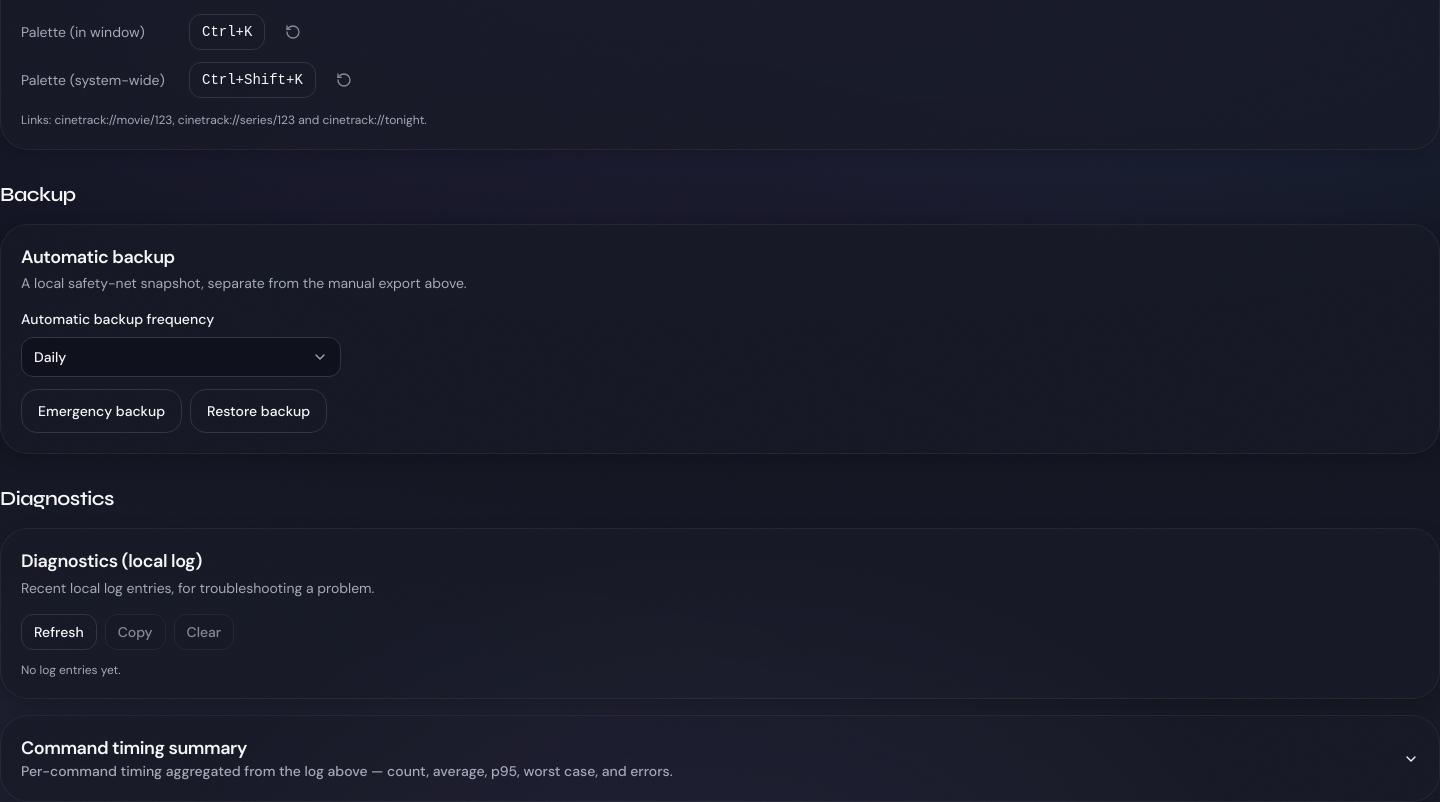
DesktopSettings › restore flow › confirmRestore failure: resets state, logs, shows an error toast, closes the dialog, and never reloads
This screenshot has width=1440, height=802.
(page scrolled)
Click the button "Restore backup" at (259, 411), box [190,389,327,433]
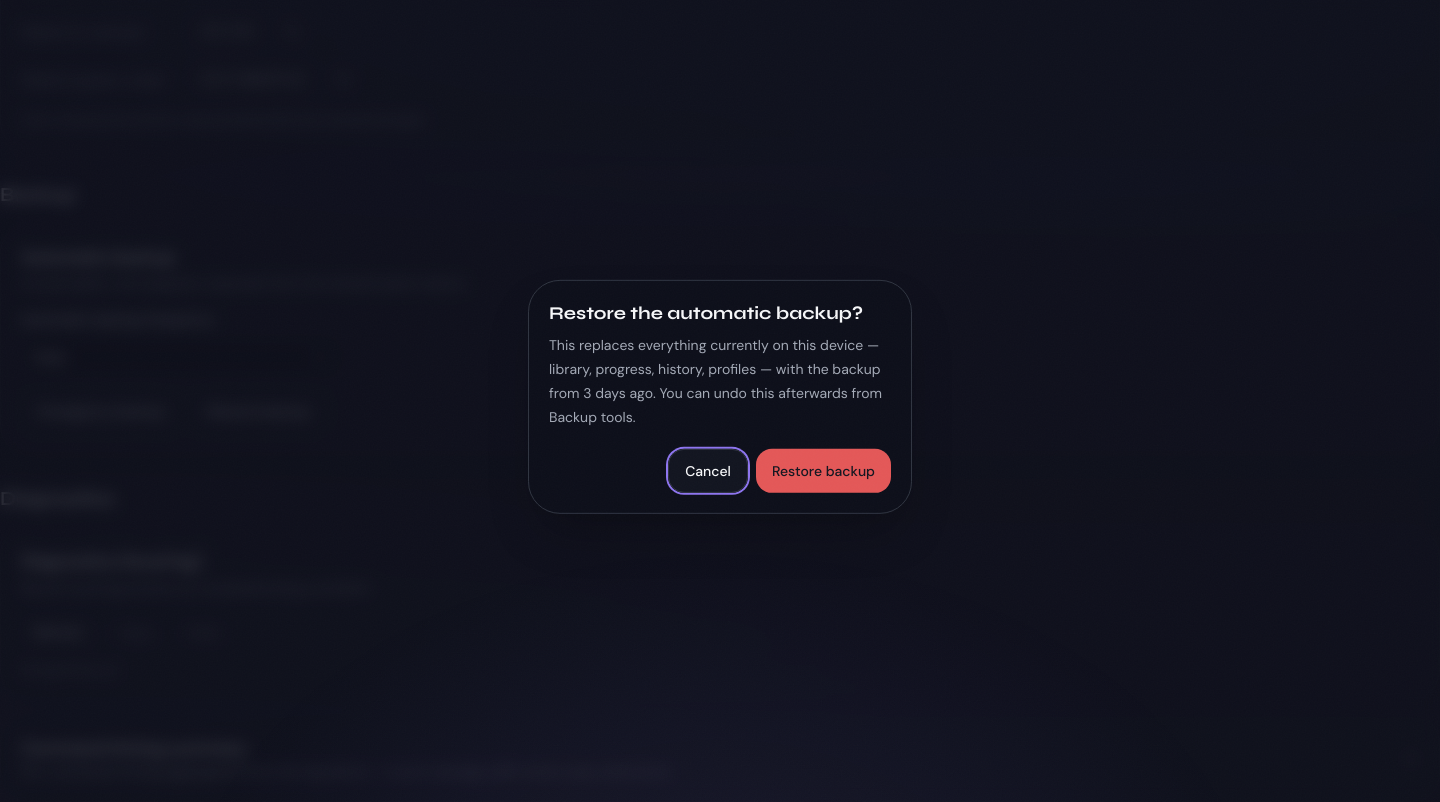
Check: the heading "Restore the automatic backup?" is shown, box [549,301,891,325]
Click the button "Restore backup" at (823, 471), box [756,449,891,493]
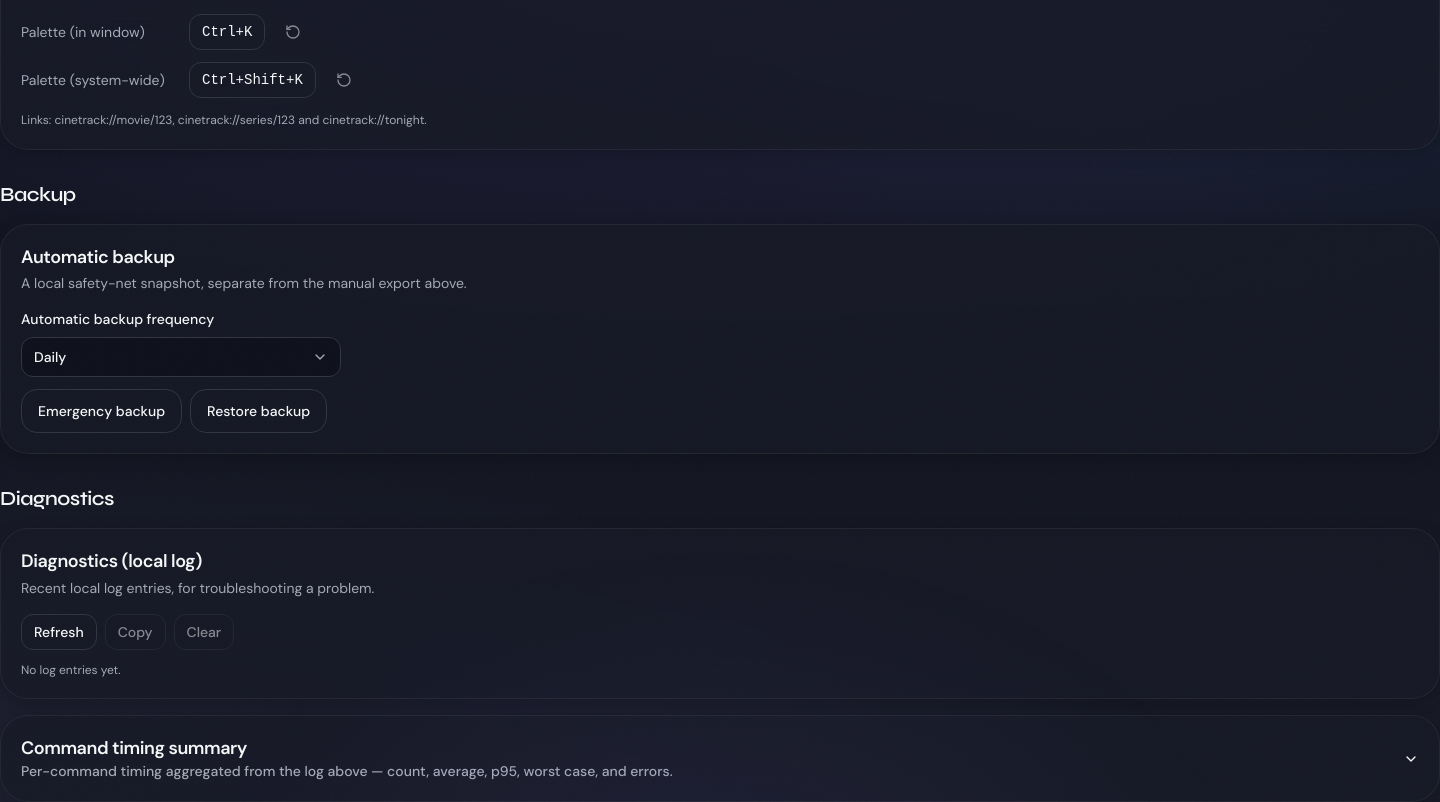
Check: the heading "Restore the automatic backup?" is gone
